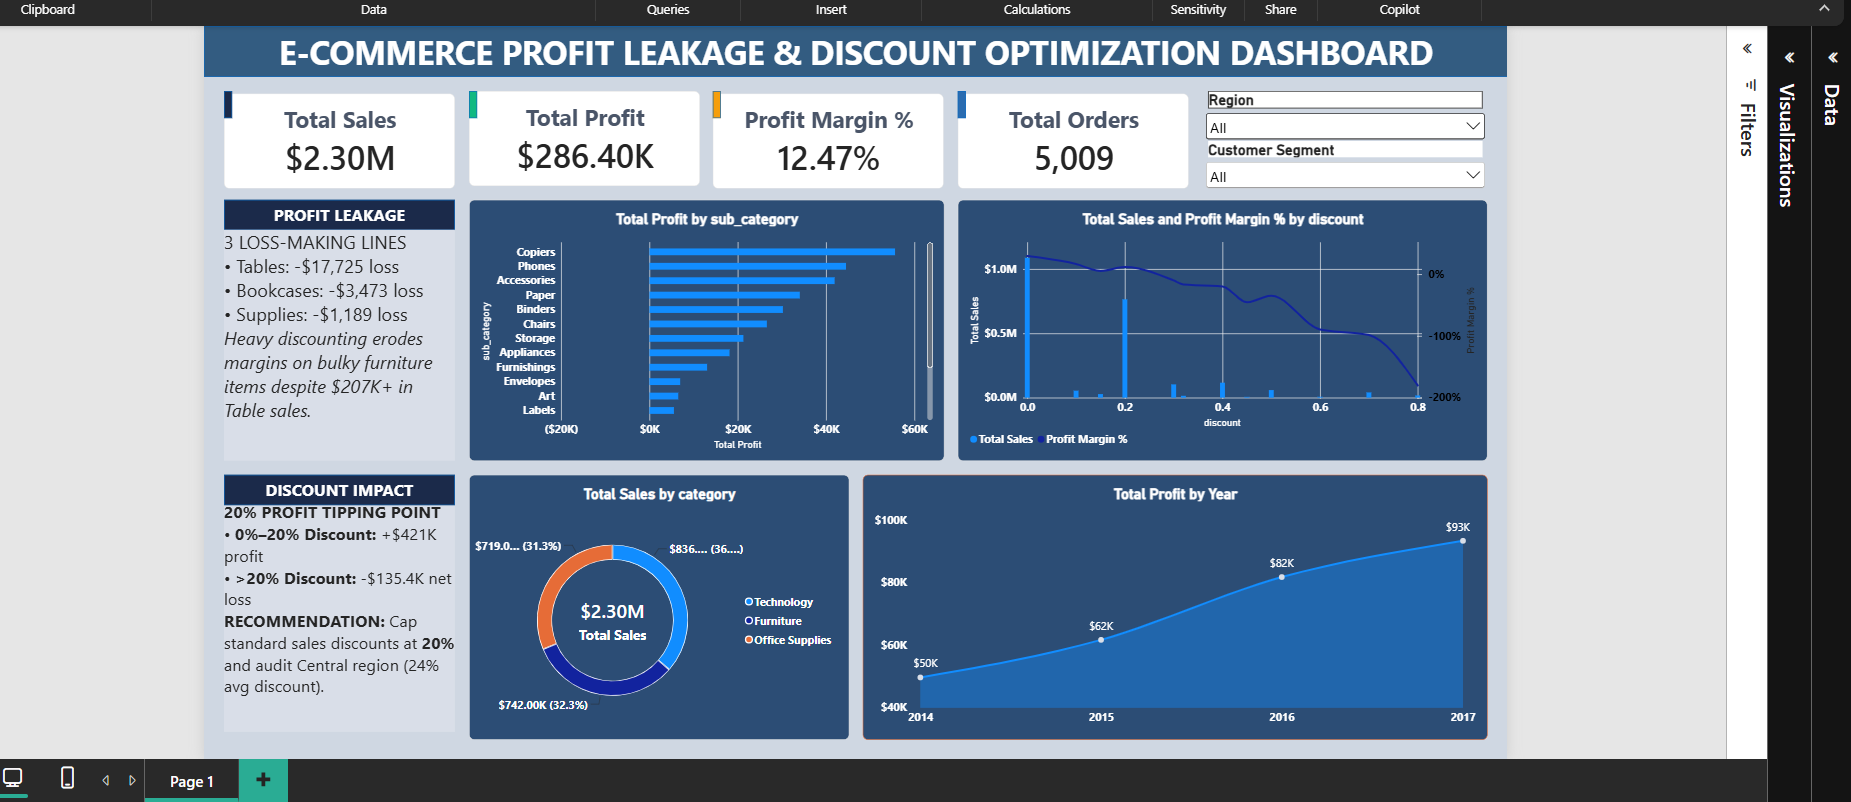

The dashboard page shown, as its layout file describes it:
{"tool":"powerbi","page":{"name":"Page 1","canvas":[1920,1080],"ordinal":0},"visuals":[{"type":"cardVisual","fields":{"Data":["clean_ecommerce_data.Total Sales"]},"box":[30,99.4,340,140],"z":0},{"type":"cardVisual","fields":{"Data":["clean_ecommerce_data.Total Profit"]},"box":[390,95,340,140],"z":1000},{"type":"cardVisual","fields":{"Data":["clean_ecommerce_data.Profit Margin %"]},"box":[750,99.4,340,140],"z":2000},{"type":"cardVisual","fields":{"Data":["clean_ecommerce_data.Total Orders"]},"box":[1110,99.4,340,140],"z":3000},{"type":"slicer","fields":{"Values":["clean_ecommerce_data.region"]},"box":[1470,95.7,420,84.7],"z":4000},{"type":"slicer","fields":{"Values":["clean_ecommerce_data.segment"]},"box":[1470,170,420,86.5],"z":5000},{"type":"clusteredBarChart","fields":{"Category":["clean_ecommerce_data.sub_category"],"Y":["clean_ecommerce_data.Total Profit"]},"box":[390,255,700,385],"z":6000},{"type":"lineClusteredColumnComboChart","fields":{"Category":["clean_ecommerce_data.discount"],"Y":["clean_ecommerce_data.Total Sales"],"Y2":["clean_ecommerce_data.Profit Margin %"]},"box":[1110,255,780,385],"z":7000},{"type":"donutChart","fields":{"Category":["clean_ecommerce_data.category"],"Y":["clean_ecommerce_data.Total Sales"]},"box":[390,660,560,390],"z":8000},{"type":"areaChart","fields":{"Category":["clean_ecommerce_data.order_date.Variation.Date Hierarchy.Year","clean_ecommerce_data.order_date.Variation.Date Hierarchy.Quarter","clean_ecommerce_data.order_date.Variation.Date Hierarchy.Month"],"Y":["clean_ecommerce_data.Total Profit"]},"box":[970,660.7,920,390],"z":9000},{"type":"shape","title":"E-COMMERCE POFIT LEAKAGE & DISCOUNT OPTIMIZATION DASHBOARD","box":[0,0,1920,75],"z":10000},{"type":"shape","box":[30,255,340,45],"z":11000},{"type":"textbox","box":[30,300,340,340],"z":12000},{"type":"textbox","box":[30,700,340,340],"z":13000},{"type":"shape","box":[30,660,340,45],"z":14000},{"type":"shape","box":[30,95,12,40],"z":15000},{"type":"shape","box":[390,95,12,40],"z":16000},{"type":"shape","box":[1110,95,12,40],"z":17000},{"type":"shape","box":[750,95,12,40],"z":18000}]}

Visuals, with their boxes on the page's 1920x1080 design canvas (x1, y1, x2, y2). These are canvas units, not pixel positions in the 1851x802 screenshot, which may show the page scaled, cropped or inside an application window:
cardVisual - clean_ecommerce_data.Total Sales: BBox(30, 99, 370, 239)
cardVisual - clean_ecommerce_data.Total Profit: BBox(390, 95, 730, 235)
cardVisual - clean_ecommerce_data.Profit Margin %: BBox(750, 99, 1090, 239)
cardVisual - clean_ecommerce_data.Total Orders: BBox(1110, 99, 1450, 239)
slicer - clean_ecommerce_data.region: BBox(1470, 96, 1890, 180)
slicer - clean_ecommerce_data.segment: BBox(1470, 170, 1890, 256)
clusteredBarChart - clean_ecommerce_data.sub_category x clean_ecommerce_data.Total Profit: BBox(390, 255, 1090, 640)
lineClusteredColumnComboChart - clean_ecommerce_data.discount x clean_ecommerce_data.Total Sales: BBox(1110, 255, 1890, 640)
donutChart - clean_ecommerce_data.category x clean_ecommerce_data.Total Sales: BBox(390, 660, 950, 1050)
areaChart - clean_ecommerce_data.order_date.Variation.Date Hierarchy.Year x clean_ecommerce_data.order_date.Variation.Date Hierarchy.Quarter: BBox(970, 661, 1890, 1051)
"E-COMMERCE POFIT LEAKAGE & DISCOUNT OPTIMIZATION DASHBOARD" shape: BBox(0, 0, 1920, 75)
shape: BBox(30, 255, 370, 300)
textbox: BBox(30, 300, 370, 640)
textbox: BBox(30, 700, 370, 1040)
shape: BBox(30, 660, 370, 705)
shape: BBox(30, 95, 42, 135)
shape: BBox(390, 95, 402, 135)
shape: BBox(1110, 95, 1122, 135)
shape: BBox(750, 95, 762, 135)
